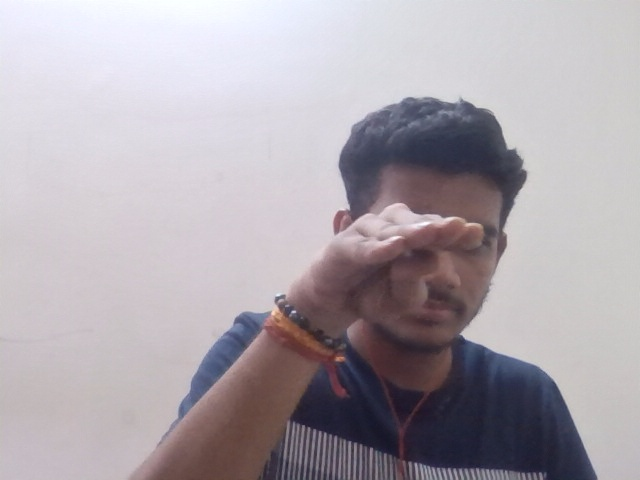no: (297, 189, 498, 337)
